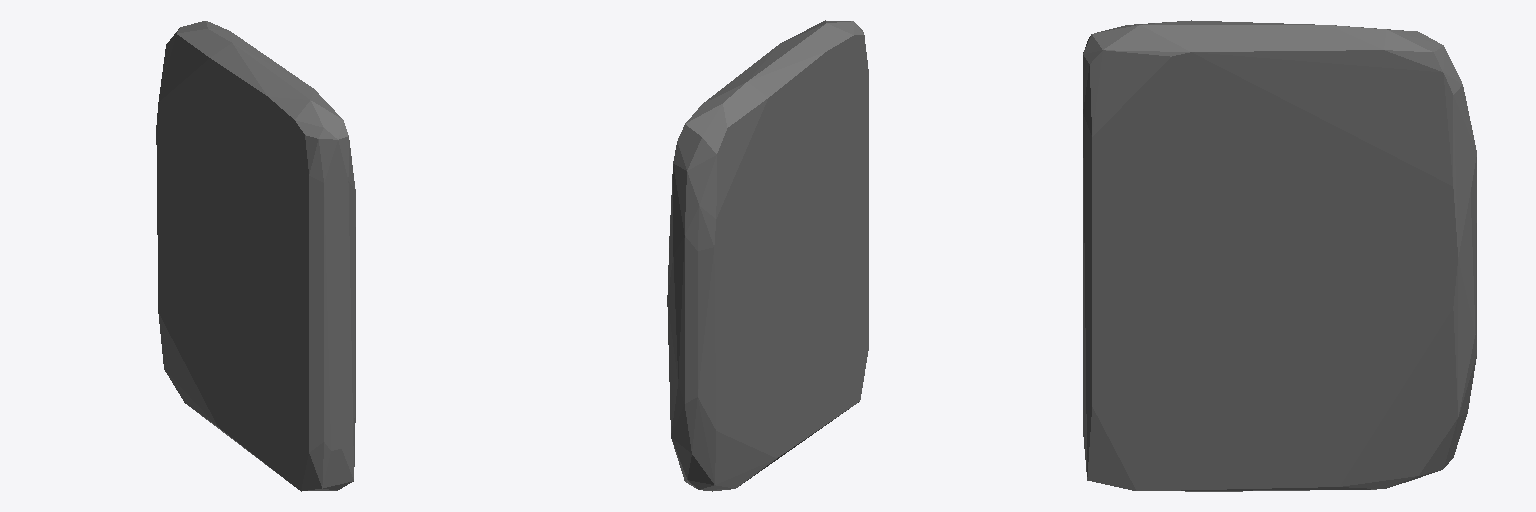
robot.urdf — book_009:
<?xml version="1.0" ?>
<robot name="book_009">
  <material name="color">
    <color rgba=".5 .5 .5 1"/>
  </material>

  <link name="base_link">
    <contact>
      <lateral_friction value="1.0"/>
      <rolling_friction value="0.001"/>
      <spinning_friction value="0.001"/>
      <inertia_scaling value="1.0"/>
    </contact>
    <inertial>
      <origin rpy="0 0 0" xyz="-1.05244e-05 0.00609248 -0.000138793"/>
       <mass value="0.1"/>
       <inertia ixx="1" ixy="0" ixz="0" iyy="1" iyz="0" izz="1"/>
    </inertial>

    <visual>
      <origin rpy="0 0 0" xyz="0 0 0"/>
      <geometry>
        <mesh filename="book_009_vhacd_0_of_1.obj" scale="1 1 1"/>
      </geometry>
      <material name="color"/>
    </visual>

    <collision>
      <origin rpy="0 0 0" xyz="0 0 0"/>
      <geometry>
        <mesh filename="book_009_vhacd_0_of_1.obj" scale="1 1 1"/>
      </geometry>
    </collision>

  </link>
</robot>

--- Facts derived from the render (not from the file) ---
Views: 3 orthographic renders of the robot side by side, from view 1: azimuth 30°, elevation 25°; view 2: azimuth 150°, elevation 25°; view 3: azimuth 270°, elevation 25°.
Robot: book_009 — 1 links, 0 joints (none); root link base_link; default pose: all joints at 0.
Visible links, largest first — view 1: base_link; view 2: base_link; view 3: base_link.
Boxes of the visible links, box(x1,y1,x2,y2) form: base_link: box(156, 21, 355, 491); base_link: box(667, 20, 868, 491); base_link: box(1083, 20, 1476, 491).
Bounding box of the posed robot: 0.0291 × 0.1785 × 0.2318 m (x, y, z).
Meshes: 1 distinct files referenced, 1 mesh visuals loaded (1 OBJ).